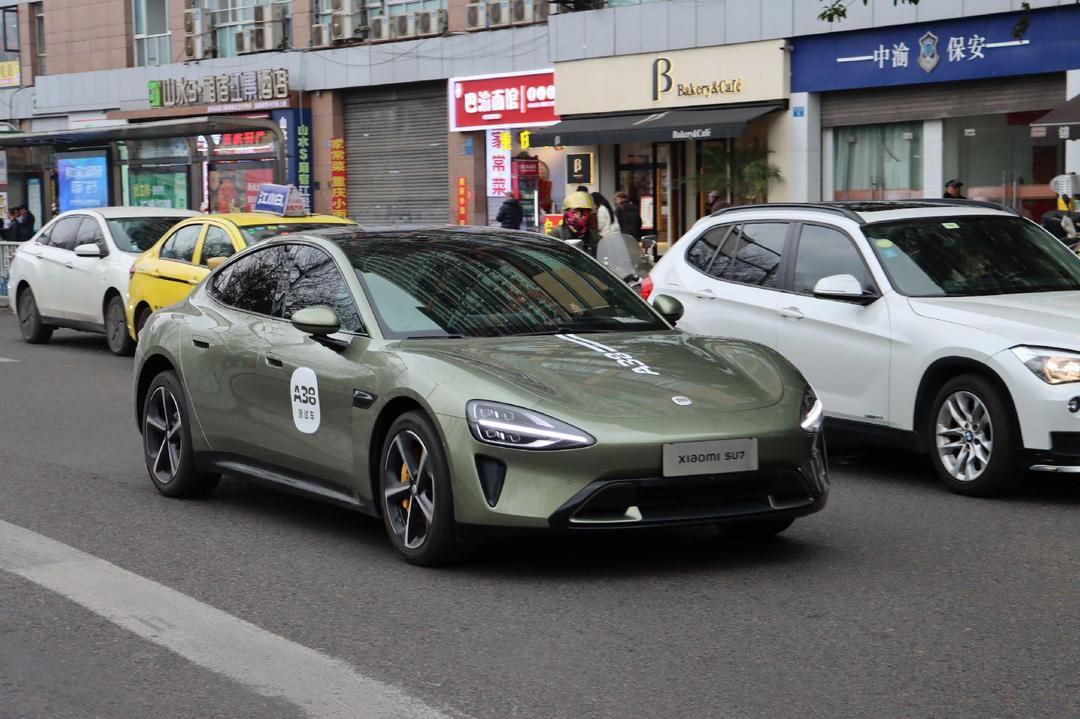other: (656, 193, 1080, 483), (11, 201, 199, 355)
su7: (135, 230, 827, 555)
